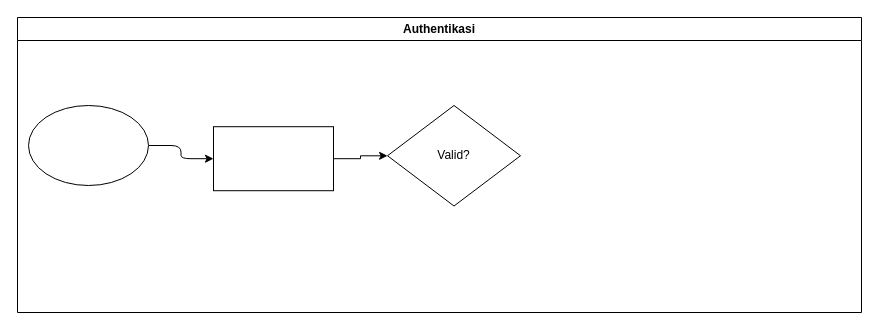
Image size: 879x330. Some labels were removed from this diagram. Here are the shapes that lost their labels. From the top down, the centre of each, then its label:
At point (88, 145): "Request".
At point (273, 158): "Authenticate".
